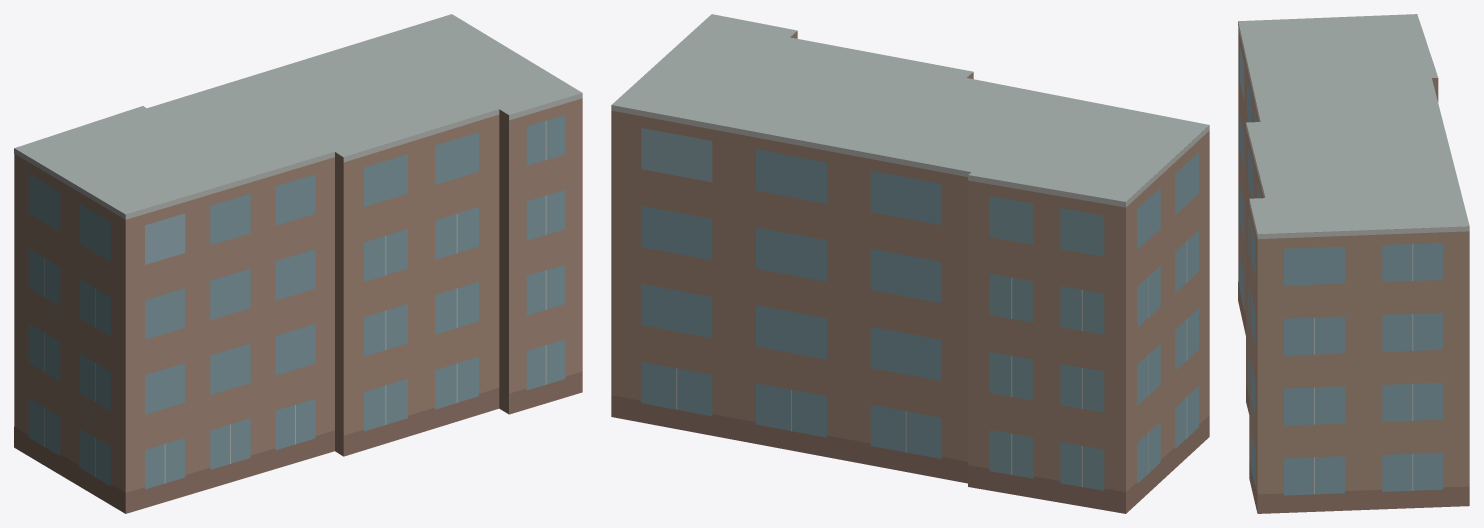
File: survey-upis-33016535.glb
3 renders of one model, left to right at view 1: azimuth 30°, elevation 25°; view 2: azimuth 150°, elevation 25°; view 3: azimuth 270°, elevation 25°, orthographic. The views are drawn at different scales.
Visible parts, largest first — view 1: survey-upis-33016535.tmp; view 2: survey-upis-33016535.tmp; view 3: survey-upis-33016535.tmp.
Part boxes in pixels (x1,y1,x2,y2): survey-upis-33016535.tmp: (14, 14, 582, 513); survey-upis-33016535.tmp: (611, 14, 1209, 513); survey-upis-33016535.tmp: (1238, 14, 1469, 513).
Size of the model in its own units: 23.23 by 13.75 by 10.33.
